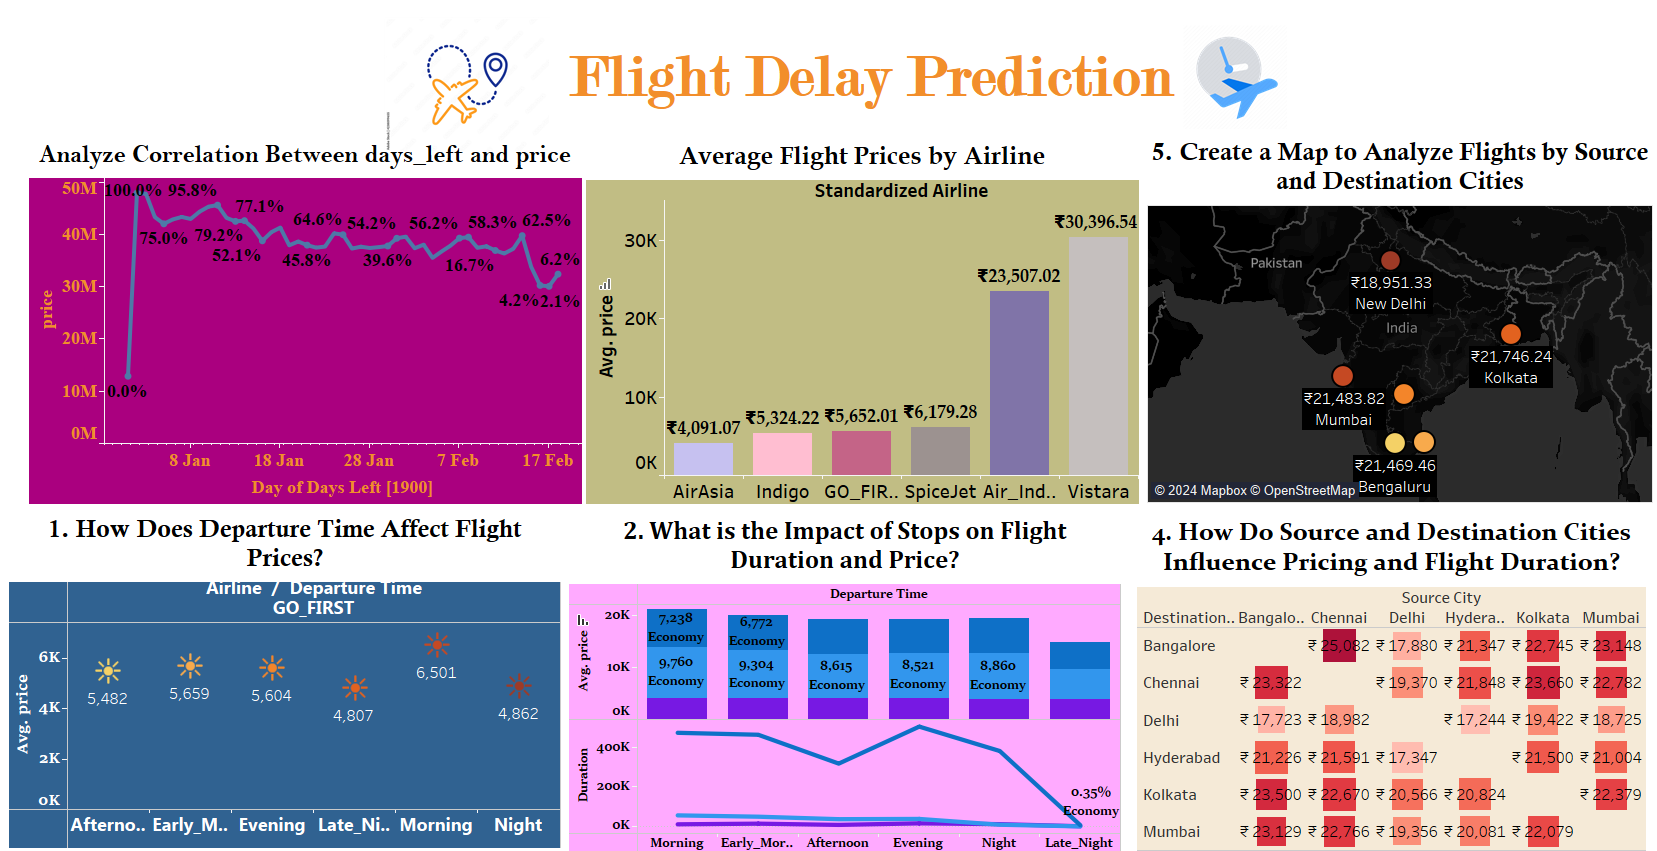

What the dashboard file says about the page in this screenshot:
{"tool":"tableau","page":{"name":"Dashboard 1","canvas":[1000,1000],"units":"permille","ordinal":0},"visuals":[{"type":"image","param":"C:/Users/Kalpana/Documents/DV/CIA-2_Assignment/p3.jpg","box":[205.8,20,152.7,158.6]},{"type":"image","param":"C:/Users/Kalpana/Documents/DV/CIA-2_Assignment/p4.jpg","box":[713.9,29.4,112.2,122.2]},{"type":"text","box":[198.6,32.9,654.2,118.7]},{"type":"worksheet","title":"Sheet 6","mark":"Automatic","box":[692.2,153.9,305.4,437.1]},{"type":"worksheet","title":"Sheet 1","mark":"Automatic","rows":["price"],"cols":["days_left"],"box":[17.5,157.5,333.1,434.8]},{"type":"worksheet","title":"Sheet 4","mark":"Automatic","rows":["price"],"cols":["Calculation_1088182328668606467"],"box":[353.7,158.6,333.1,433.6]},{"type":"worksheet","title":"Sheet 2","mark":"Shape","rows":["price"],"cols":["airline","departure_time"],"box":[5.4,596.9,333.1,400.7]},{"type":"worksheet","title":"Sheet 3","mark":"Automatic","rows":["price","duration"],"cols":["departure_time"],"box":[343.4,598.1,333.1,405.4]},{"type":"worksheet","title":"Sheet 5","mark":"Automatic","rows":["destination_city"],"cols":["source_city"],"box":[686.2,599.3,307.2,400.7]}]}

Visuals, with their boxes on the dashboard's canvas, which has no fixed pixel size, in thousandths of its width and height (x1, y1, x2, y2). These are canvas units, not pixel positions in the 1657x851 screenshot, which may show the page scaled, cropped or inside an application window:
image: (206, 20, 358, 179)
image: (714, 29, 826, 152)
text: (199, 33, 853, 152)
"Sheet 6" worksheet: (692, 154, 998, 591)
"Sheet 1" worksheet: (18, 158, 351, 592)
"Sheet 4" worksheet: (354, 159, 687, 592)
"Sheet 2" worksheet (Shape marks): (5, 597, 338, 998)
"Sheet 3" worksheet: (343, 598, 676, 1004)
"Sheet 5" worksheet: (686, 599, 993, 1000)
